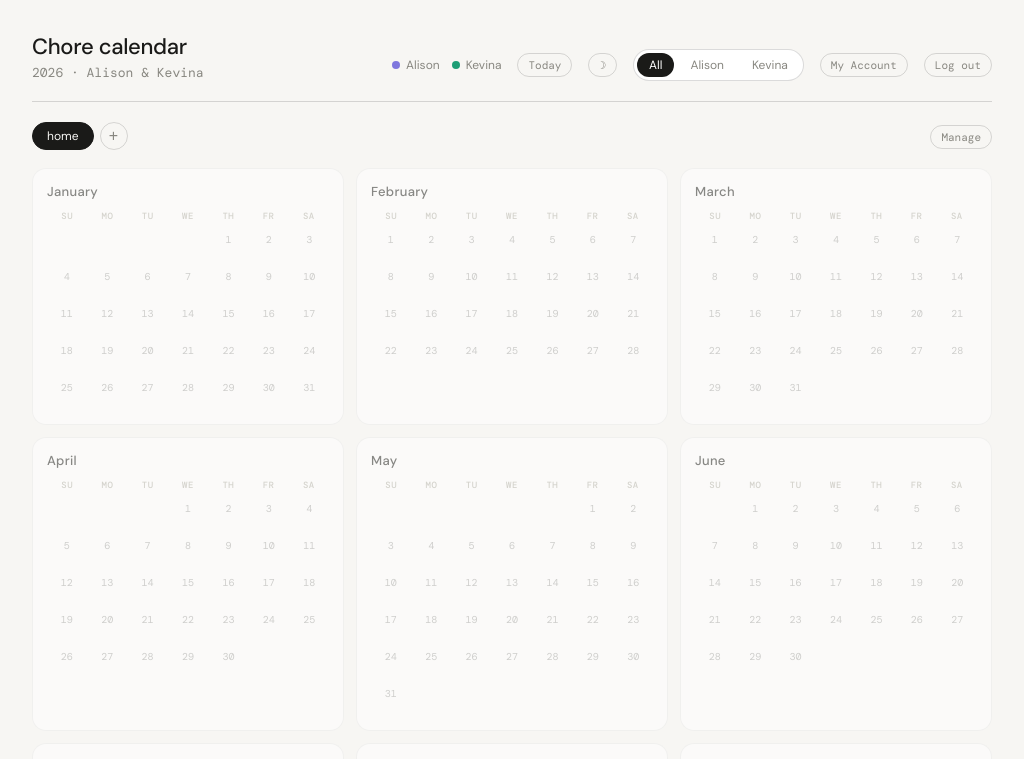
Test case: App › opens detail panel when a date with chores is clicked
The width and height of the screenshot is (1024, 759).
Expected: the text "January" is shown, [47,183,98,200]
Click the button "1" below "January". click: (228, 240)
box: [225,233,231,246]
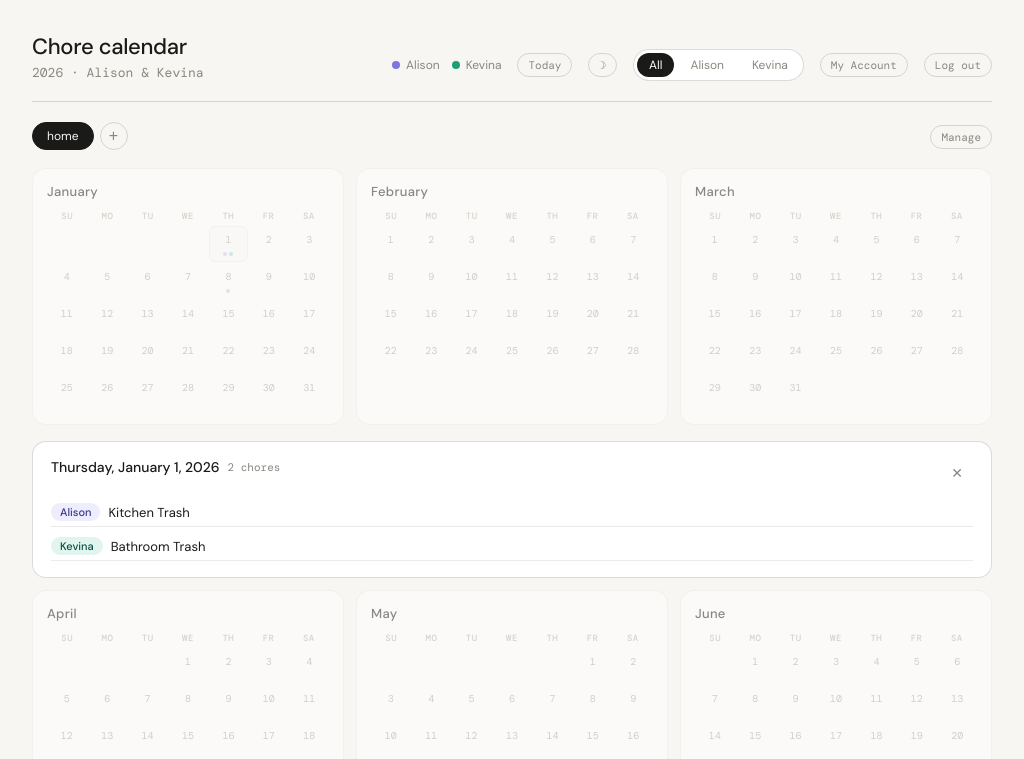
Expected: the text "Kitchen Trash" is shown, [108,504,190,520]
Expected: the text "Bathroom Trash" is shown, [111,538,206,554]
